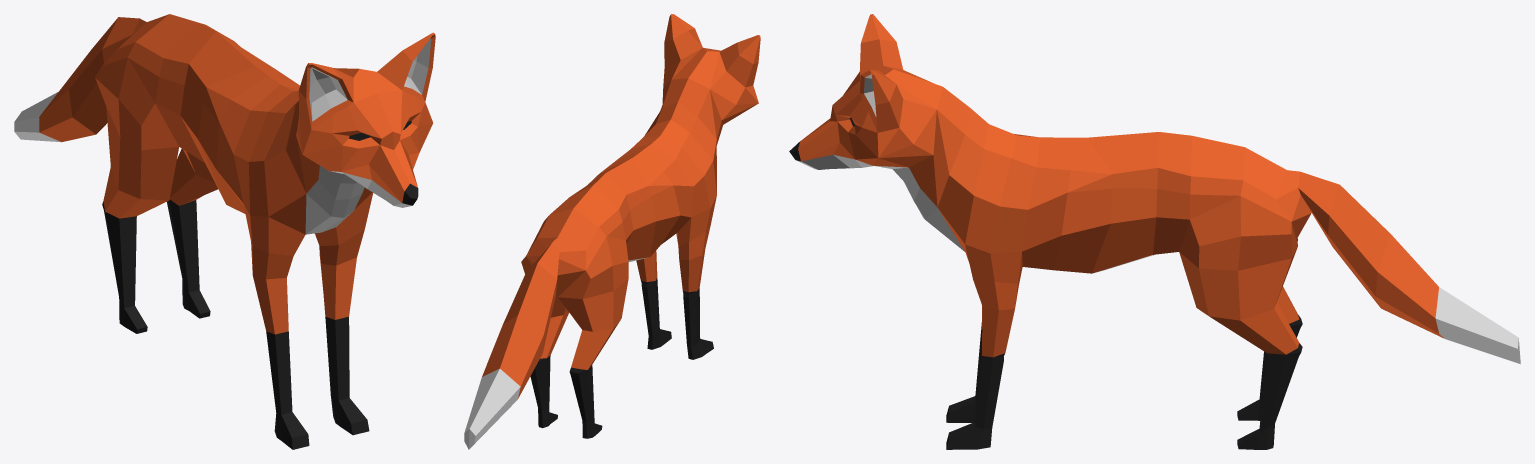
File: lowpoly_fox.glb
3 views of the same model, side by side, from view 1: azimuth 30°, elevation 25°; view 2: azimuth 150°, elevation 25°; view 3: azimuth 270°, elevation 25° (orthographic). The views are drawn at different scales.
Parts seen in each view (by area): view 1: Object_8, Object_6, Object_4; view 2: Object_8, Object_6, Object_4; view 3: Object_8, Object_6, Object_4.
Part boxes in pixels (bbox=[...]): Object_8: bbox=[39, 14, 435, 334]; Object_6: bbox=[102, 183, 418, 449]; Object_4: bbox=[14, 38, 431, 234]; Object_8: bbox=[482, 14, 760, 398]; Object_6: bbox=[530, 277, 713, 438]; Object_4: bbox=[464, 257, 647, 449]; Object_8: bbox=[798, 14, 1443, 357]; Object_6: bbox=[789, 142, 1302, 449]; Object_4: bbox=[796, 74, 1520, 364].
Bounding box in the file's own units: 0.4962 × 1.53 × 2.6.
